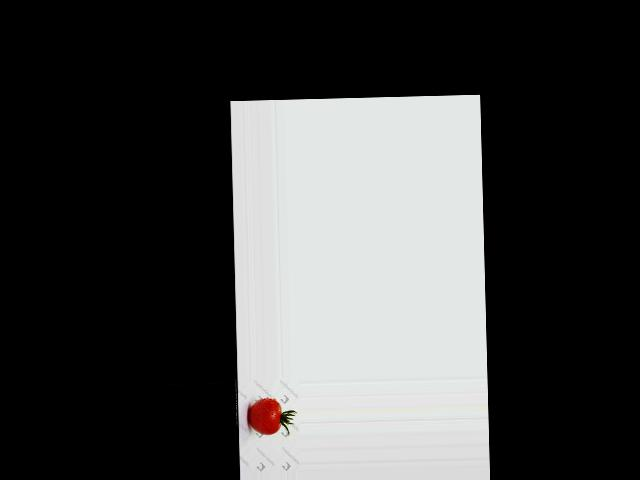tomato: (247, 399, 281, 435)
